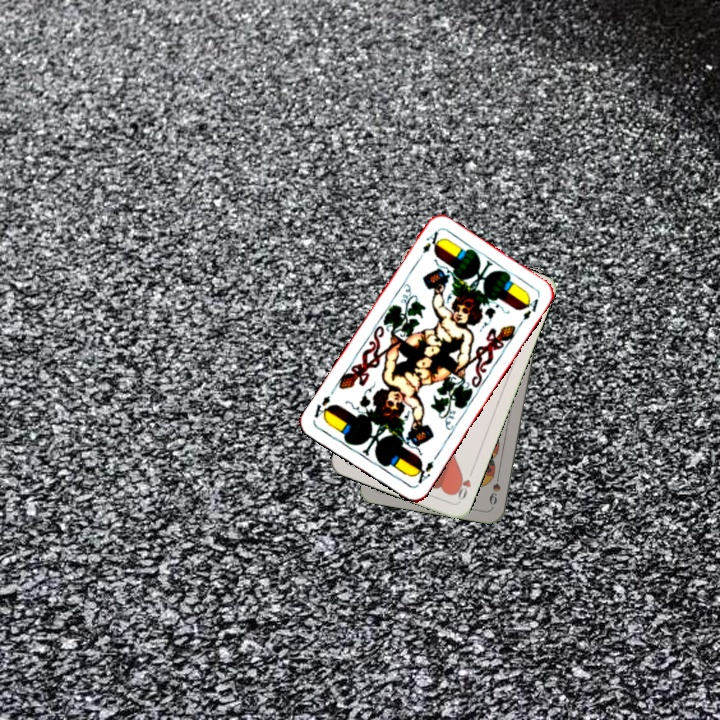EA: (414, 227, 442, 263), (410, 456, 436, 487)
HO: (450, 465, 476, 503)
S9: (485, 468, 503, 507)
